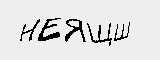Е: (39, 13, 61, 44)
Н: (17, 17, 39, 44)
Ш: (112, 19, 130, 44)
Щ: (86, 19, 112, 46)
Я: (61, 16, 87, 44)
